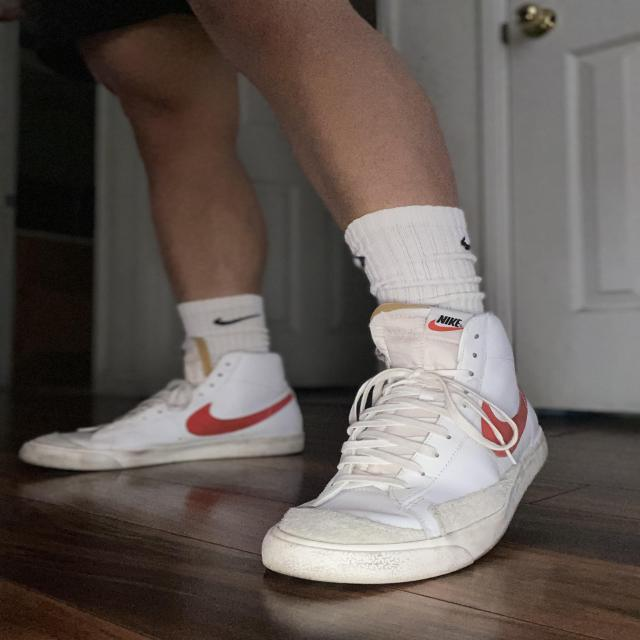shoe: (249, 298, 551, 599), (11, 307, 308, 474)
